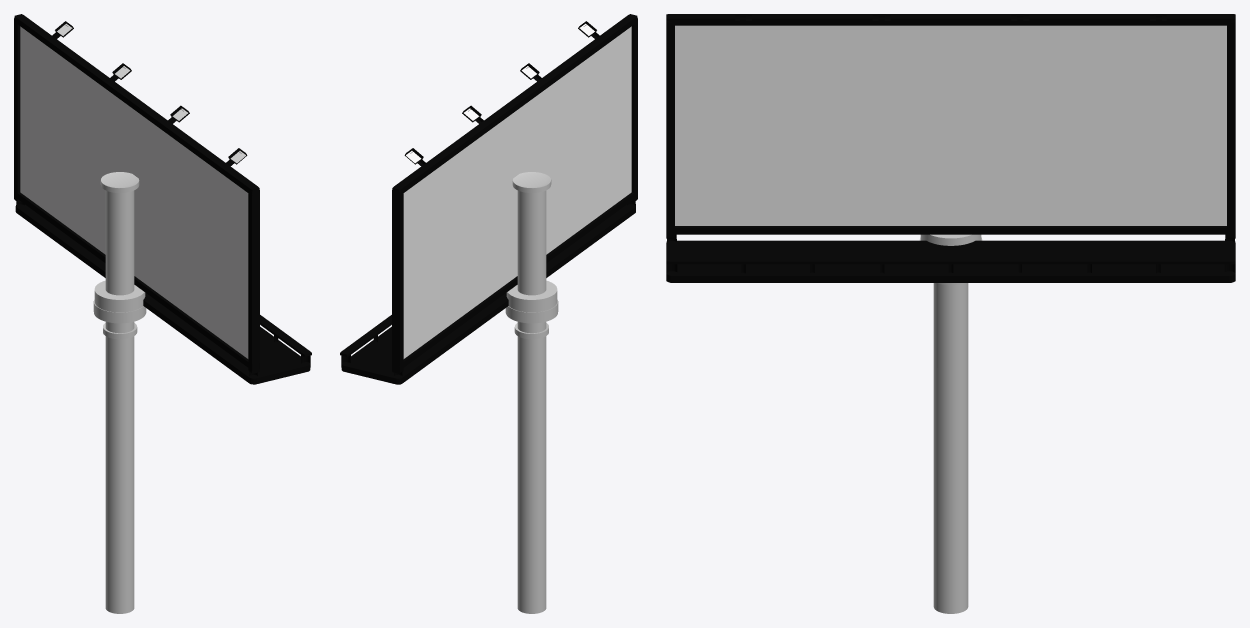
File: billboard1.glb
3 renders of one model, left to right at view 1: azimuth 30°, elevation 25°; view 2: azimuth 150°, elevation 25°; view 3: azimuth 270°, elevation 25°, orthographic. The views are drawn at different scales.
Parts seen in each view (by area): view 1: Cube.005, Cube.001, Cylinder, Cube.009; view 2: Cube.005, Cube.001, Cylinder, Cube.009; view 3: Cube.005, Cube.001, Cylinder.
Boxes of the visible parts, <box> form: Cube.005: <box>20,26,248,358</box>; Cube.001: <box>14,14,311,384</box>; Cylinder: <box>93,172,146,613</box>; Cube.009: <box>57,23,245,163</box>; Cube.005: <box>403,26,631,358</box>; Cube.001: <box>340,14,637,384</box>; Cylinder: <box>505,172,558,613</box>; Cube.009: <box>406,23,594,163</box>; Cube.005: <box>675,25,1226,225</box>; Cube.001: <box>666,14,1235,282</box>; Cylinder: <box>919,234,982,613</box>.
Size of the model in its own units: 7.67 by 39.04 by 32.86.
Materials: 2 (2 with a texture image).
